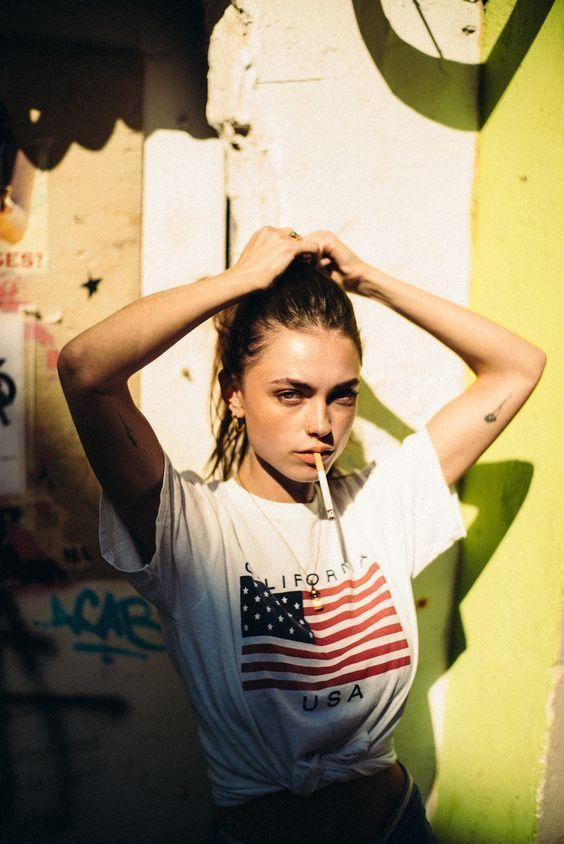cigarette: (314, 452, 336, 520)
